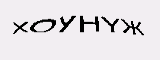Ж: (121, 20, 145, 36)
Н: (78, 15, 101, 33)
О: (30, 18, 56, 33)
У: (59, 13, 76, 34)
Х: (11, 21, 28, 34)
Ү: (103, 16, 119, 33)
